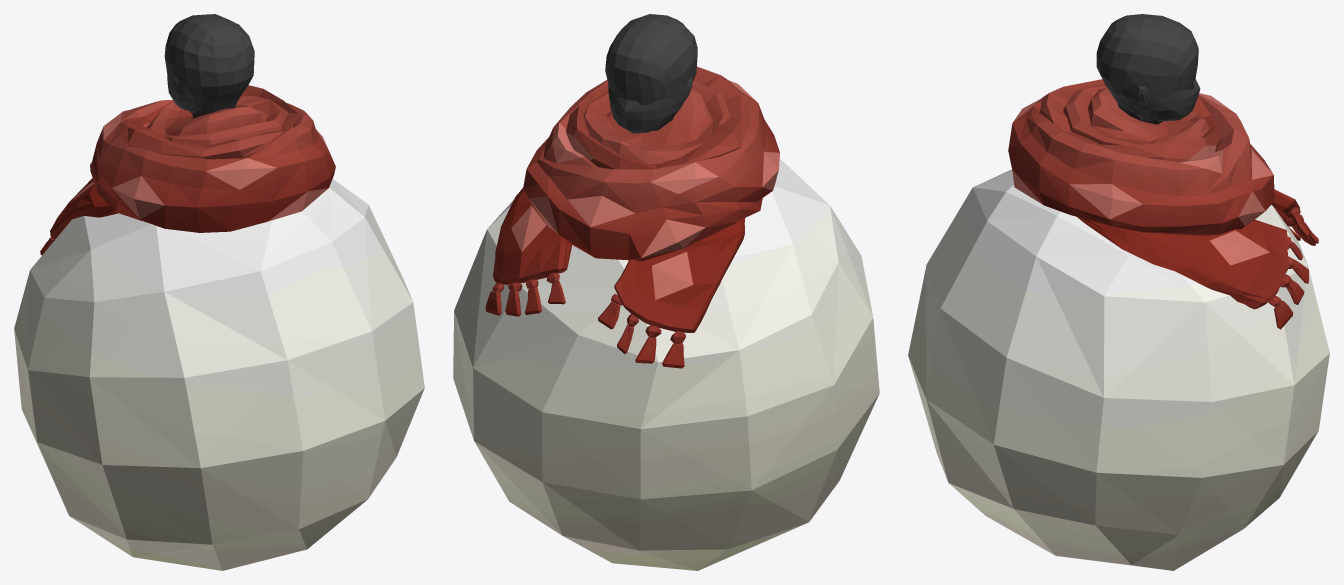
Rendered from CharSkyKid_Body_Snowman.glb.
3 renders of one model, left to right at view 1: azimuth 30°, elevation 25°; view 2: azimuth 150°, elevation 25°; view 3: azimuth 270°, elevation 25°, orthographic. The views are drawn at different scales.
Visible parts, largest first — view 1: CharSkyKid_Body_Snowman; view 2: CharSkyKid_Body_Snowman; view 3: CharSkyKid_Body_Snowman.
Boxes of the visible parts, x1,y1,x2,y2 form: CharSkyKid_Body_Snowman: [14, 14, 424, 570]; CharSkyKid_Body_Snowman: [453, 14, 879, 570]; CharSkyKid_Body_Snowman: [908, 14, 1329, 570].
Size of the model in its own units: 10.68 by 14.89 by 10.68.
Materials: 1 (1 with a texture image).
